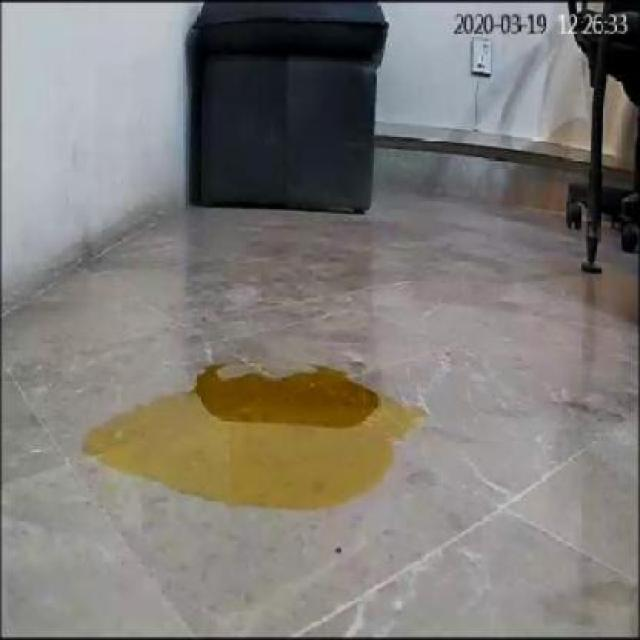spillage: (86, 365, 426, 512)
